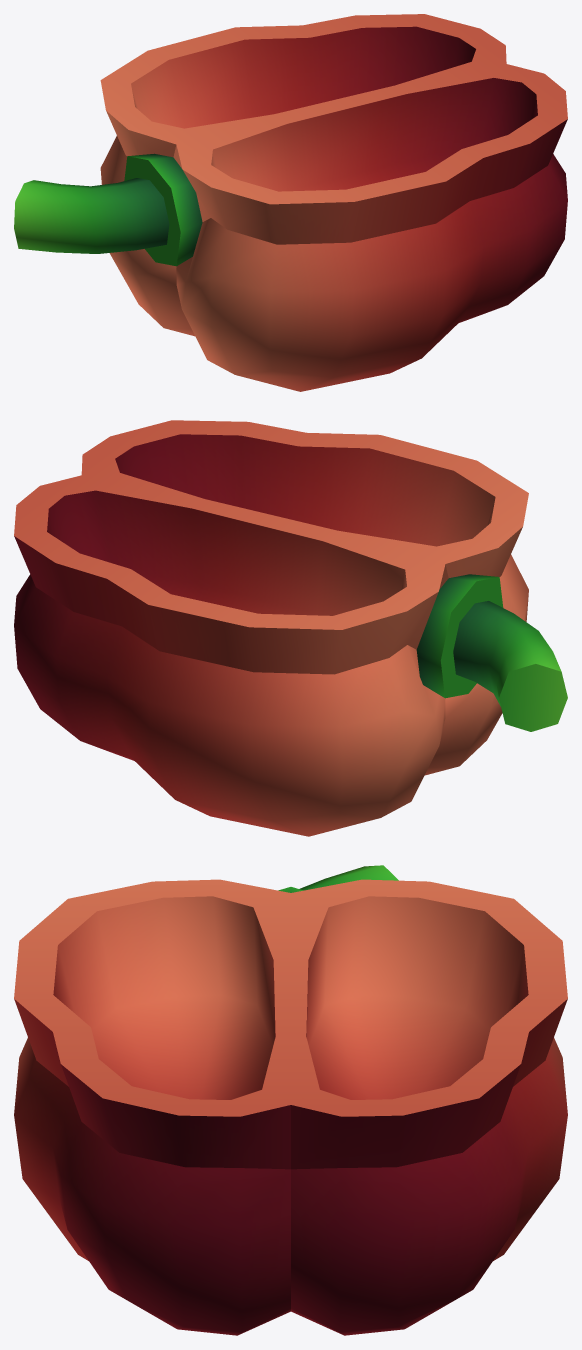
The model's file is Bell_Pepper_Slice_01.glb.
The picture shows the model from 3 angles, top to bottom: view 1: azimuth 30°, elevation 25°; view 2: azimuth 150°, elevation 25°; view 3: azimuth 270°, elevation 25°; orthographic projection. The views are drawn at different scales.
Parts seen in each view (by area): view 1: Bell_Pepper_Slice_01; view 2: Bell_Pepper_Slice_01; view 3: Bell_Pepper_Slice_01.
Part boxes in pixels (x1=…): Bell_Pepper_Slice_01: x1=14, y1=14, x2=567, y2=391; Bell_Pepper_Slice_01: x1=14, y1=420, x2=567, y2=836; Bell_Pepper_Slice_01: x1=14, y1=865, x2=567, y2=1335.
Bounding box in the file's own units: 0.3569 × 0.1678 × 0.2682.
Materials: 1 (1 with a texture image).
